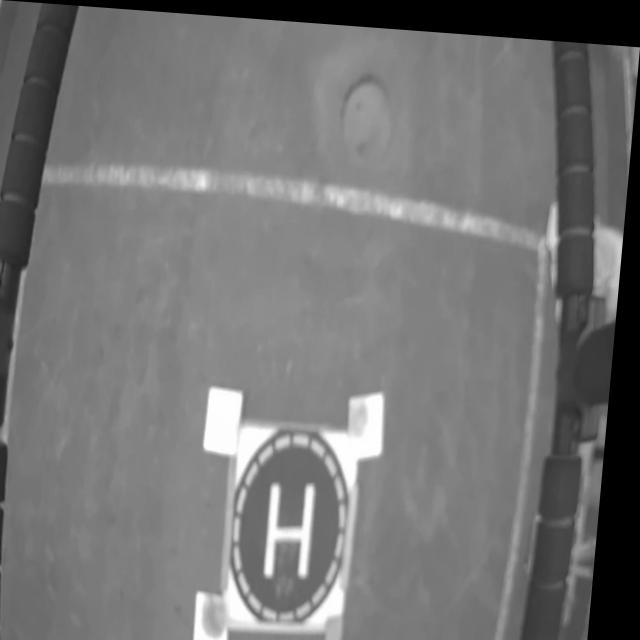Helipad: (273, 473, 325, 575)
